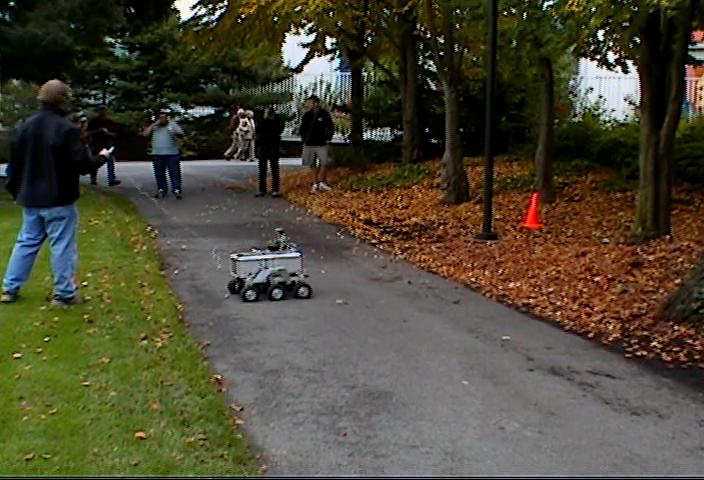trafficcone: (518, 190, 547, 231)
